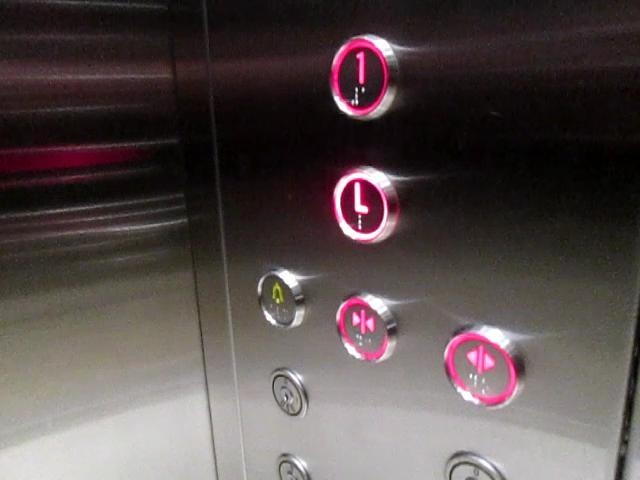1: (328, 32, 397, 120)
L: (330, 164, 398, 243)
alarm: (256, 268, 304, 330)
close: (333, 291, 397, 365)
keyhole: (267, 365, 308, 419)
open: (440, 324, 523, 409)
